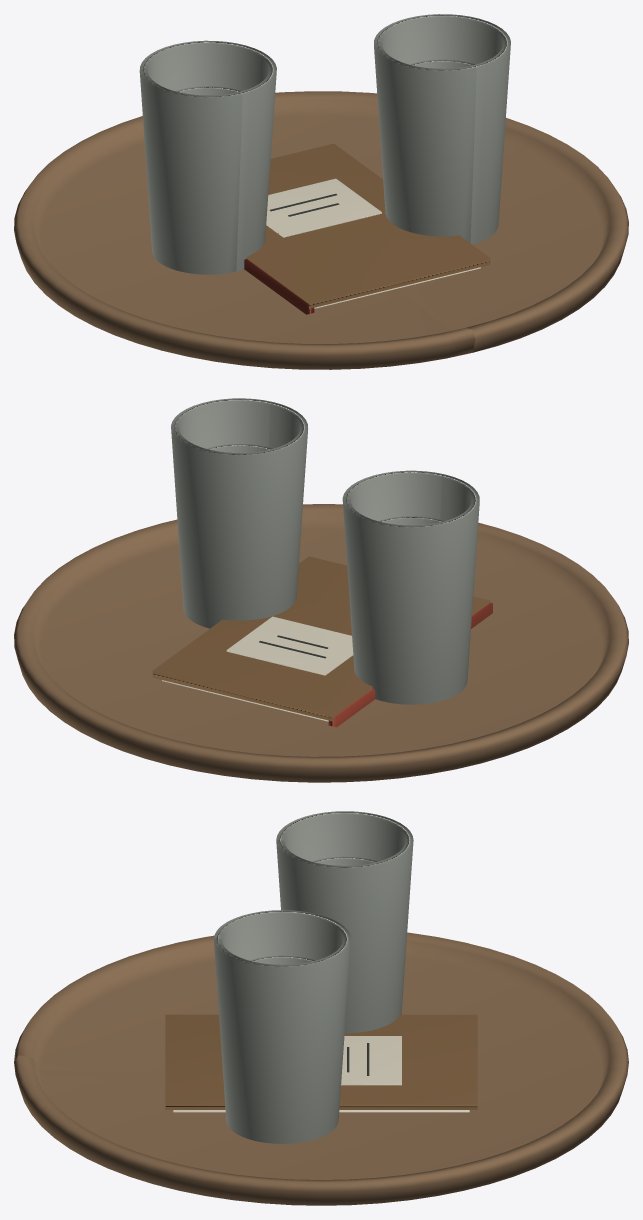
File: pub-quest-props.glb
3 views of the same model, one above another, from view 1: azimuth 30°, elevation 25°; view 2: azimuth 150°, elevation 25°; view 3: azimuth 270°, elevation 25° (orthographic).
Visible parts, largest first — view 1: pub_service_tray_loaded, pub_service_tray_empty, pub_order_book; view 2: pub_service_tray_loaded, pub_service_tray_empty, pub_order_book; view 3: pub_service_tray_loaded, pub_service_tray_empty, pub_order_book.
Part boxes in pixels (<box>): pub_service_tray_loaded: <box>14,59,628,369</box>; pub_service_tray_empty: <box>139,14,510,274</box>; pub_order_book: <box>244,143,490,314</box>; pub_service_tray_loaded: <box>14,444,628,782</box>; pub_service_tray_empty: <box>171,398,479,704</box>; pub_order_book: <box>152,556,492,727</box>; pub_service_tray_loaded: <box>14,856,628,1205</box>; pub_service_tray_empty: <box>213,811,413,1143</box>; pub_order_book: <box>165,1014,477,1112</box>.
Bounding box in the file's own units: 0.394 × 0.145 × 0.394.
